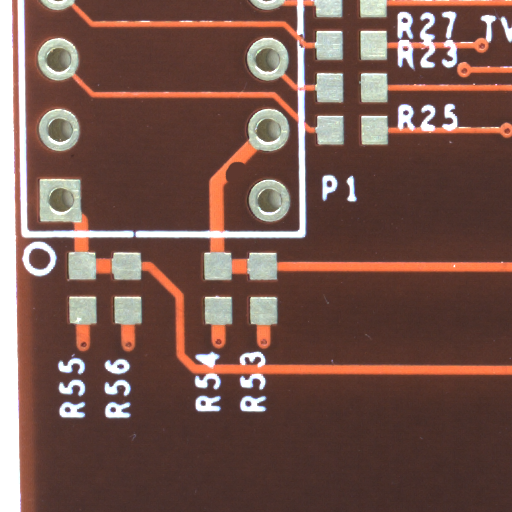Mouse_bite: (233, 172, 262, 199)
